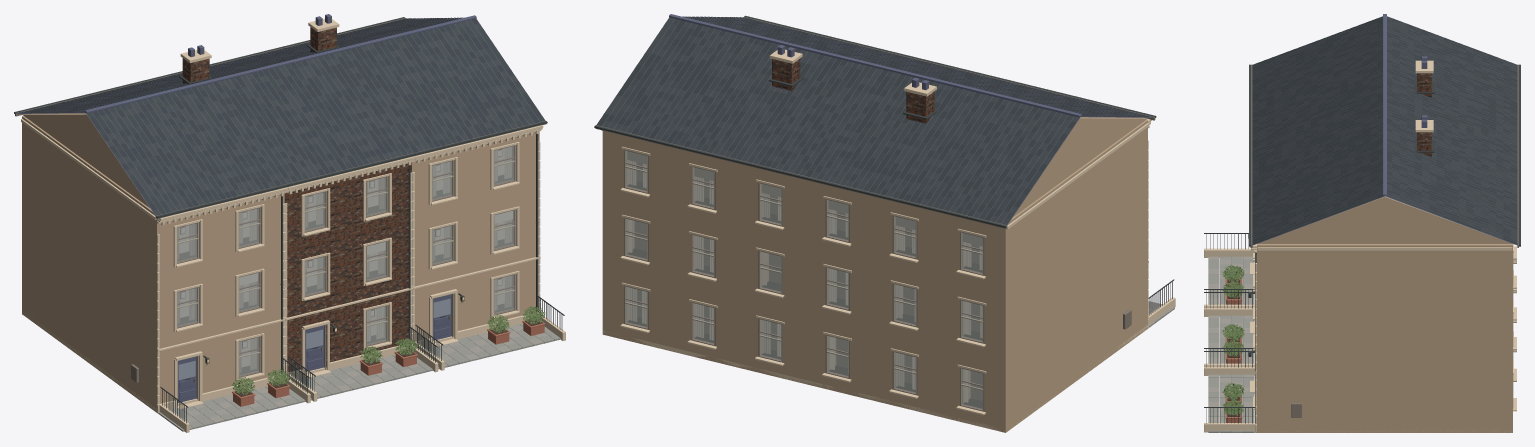
The model's file is attached-townhouse.glb.
3 renders of one model, left to right at view 1: azimuth 30°, elevation 25°; view 2: azimuth 150°, elevation 25°; view 3: azimuth 270°, elevation 25°, orthographic. The views are drawn at different scales.
Parts seen in each view (by area): view 1: attached-townhouse; view 2: attached-townhouse; view 3: attached-townhouse.
Boxes of the visible parts, x1,y1,x2,y2 form: attached-townhouse: (14,14,565,432); attached-townhouse: (594,14,1175,432); attached-townhouse: (1204,14,1520,432).
Bounding box in the file's own units: 18.35 × 12.12 × 13.62.
20 materials, 1 textured.
